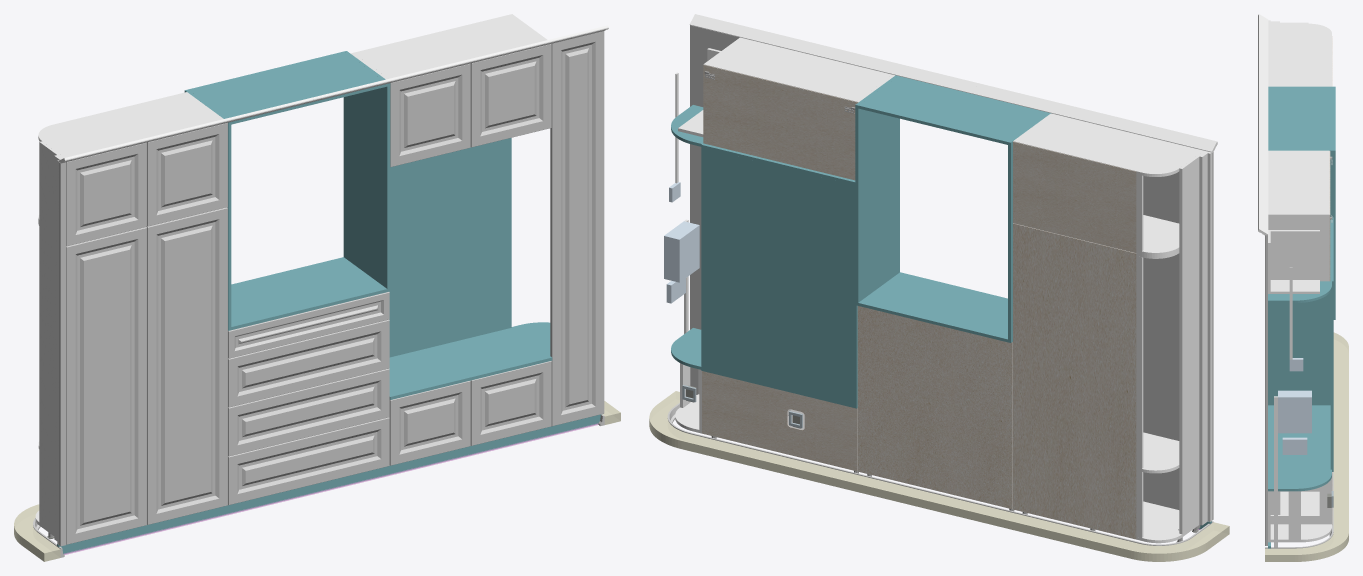
3 renders of one model, left to right at view 1: azimuth 30°, elevation 25°; view 2: azimuth 150°, elevation 25°; view 3: azimuth 270°, elevation 25°, orthographic. The views are drawn at different scales.
Parts seen in each view (by area): view 1: Shape_IndexedFaceSet.110, Shape_IndexedFaceSet.111, Shape_IndexedFaceSet.298, Shape_IndexedFaceSet.380, Shape_IndexedFaceSet.285, Shape_IndexedFaceSet.228, Shape_IndexedFaceSet.226, Shape_IndexedFaceSet.227, Shape_IndexedFaceSet.345, Shape_IndexedFaceSet.138, Shape_IndexedFaceSet.344, Shape_IndexedFaceSet.137 (+22 smaller); view 2: Shape_IndexedFaceSet.103, Shape_IndexedFaceSet.298, Shape_IndexedFaceSet.185, Shape_IndexedFaceSet.341, Shape_IndexedFaceSet, Shape_IndexedFaceSet.131, Shape_IndexedFaceSet.327, Shape_IndexedFaceSet.110, Shape_IndexedFaceSet.285, Shape_IndexedFaceSet.287, Shape_IndexedFaceSet.125, Shape_IndexedFaceSet.335 (+21 smaller); view 3: Shape_IndexedFaceSet.167, Shape_IndexedFaceSet, Shape_IndexedFaceSet.287, Shape_IndexedFaceSet.125, Shape_IndexedFaceSet.335, Shape_IndexedFaceSet.293, Shape_IndexedFaceSet.401, Shape_IndexedFaceSet.285, Shape_IndexedFaceSet.333, Shape_IndexedFaceSet.002, Shape_IndexedFaceSet.289, Shape_IndexedFaceSet.288 (+20 smaller).
Boxes of the visible parts, x1,y1,x2,y2 form: Shape_IndexedFaceSet.110: [66, 227, 146, 544]; Shape_IndexedFaceSet.111: [147, 207, 227, 524]; Shape_IndexedFaceSet.298: [389, 138, 511, 357]; Shape_IndexedFaceSet.380: [550, 31, 604, 426]; Shape_IndexedFaceSet.285: [343, 86, 387, 288]; Shape_IndexedFaceSet.228: [228, 319, 389, 407]; Shape_IndexedFaceSet.226: [228, 368, 389, 456]; Shape_IndexedFaceSet.227: [228, 417, 389, 505]; Shape_IndexedFaceSet.345: [470, 44, 551, 147]; Shape_IndexedFaceSet.138: [147, 123, 227, 226]; Shape_IndexedFaceSet.344: [390, 63, 470, 167]; Shape_IndexedFaceSet.137: [66, 142, 146, 246]; Shape_IndexedFaceSet.103: [1013, 223, 1136, 539]; Shape_IndexedFaceSet.298: [701, 148, 856, 405]; Shape_IndexedFaceSet.185: [857, 306, 1012, 509]; Shape_IndexedFaceSet.341: [703, 65, 858, 180]; Shape_IndexedFaceSet: [649, 391, 1229, 561]; Shape_IndexedFaceSet.131: [1013, 141, 1136, 252]; Shape_IndexedFaceSet.327: [702, 371, 857, 471]; Shape_IndexedFaceSet.110: [1143, 253, 1179, 509]; Shape_IndexedFaceSet.285: [858, 108, 899, 302]; Shape_IndexedFaceSet.287: [858, 76, 1047, 144]; Shape_IndexedFaceSet.125: [1016, 114, 1202, 173]; Shape_IndexedFaceSet.335: [706, 38, 892, 101]; Shape_IndexedFaceSet.167: [1268, 320, 1330, 405]; Shape_IndexedFaceSet: [1265, 332, 1348, 561]; Shape_IndexedFaceSet.287: [1268, 87, 1335, 149]; Shape_IndexedFaceSet.125: [1268, 23, 1331, 85]; Shape_IndexedFaceSet.335: [1268, 152, 1329, 213]; Shape_IndexedFaceSet.293: [1268, 405, 1330, 469]; Shape_IndexedFaceSet.401: [1270, 230, 1319, 279]; Shape_IndexedFaceSet.285: [1268, 150, 1335, 319]; Shape_IndexedFaceSet.333: [1268, 214, 1329, 281]; Shape_IndexedFaceSet.002: [1278, 390, 1311, 433]; Shape_IndexedFaceSet.289: [1258, 112, 1268, 235]; Shape_IndexedFaceSet.288: [1258, 14, 1268, 117].
Size of the model in its own units: 3.51 by 2.34 by 0.5907.
Materials: 21 (9 with a texture image).
